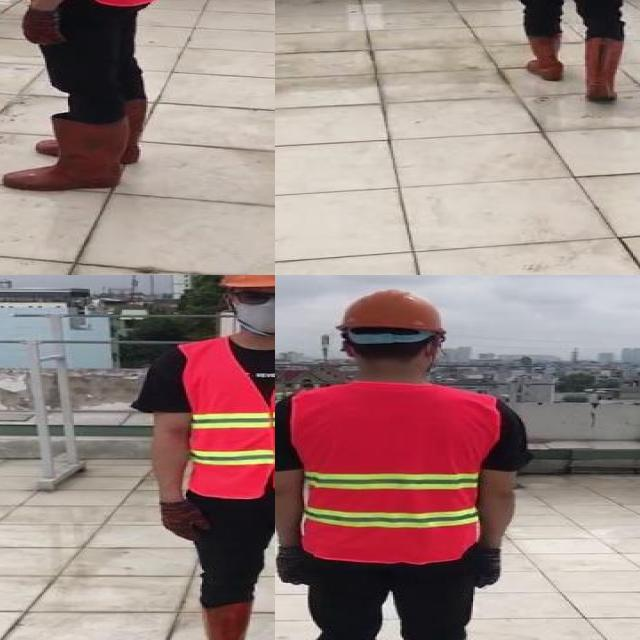boots: (4, 118, 123, 190), (38, 96, 146, 165), (187, 601, 257, 640), (583, 38, 626, 98), (519, 34, 567, 79)
face_mask: (231, 286, 275, 333)
glasses: (229, 284, 275, 310)
hand_glove: (158, 498, 215, 543), (20, 9, 66, 47), (275, 547, 308, 584), (478, 548, 502, 588)
head_helmet: (332, 288, 459, 340)
person: (275, 283, 535, 640), (130, 275, 275, 640), (0, 0, 186, 201), (470, 0, 640, 104)
vest: (288, 384, 498, 564), (179, 335, 275, 500)
